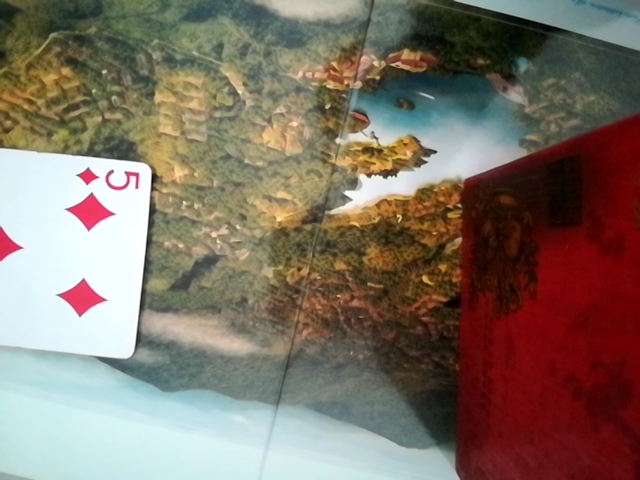fk 5: (2, 140, 158, 363)
